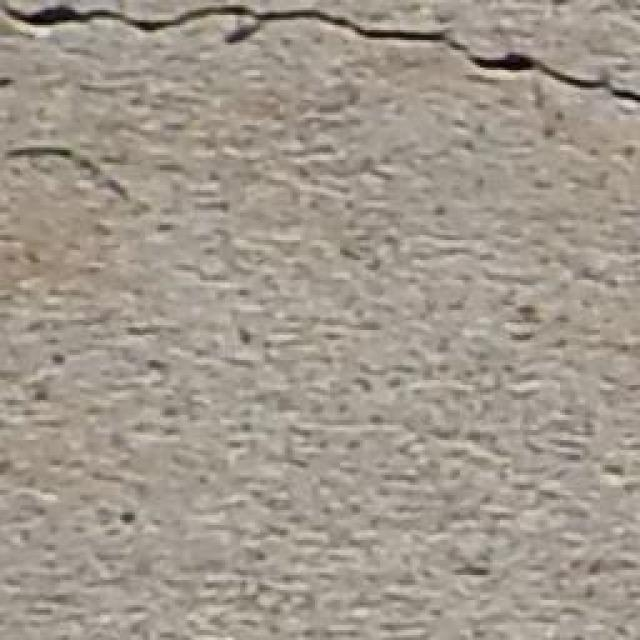concrete-crack: (4, 1, 639, 111)
